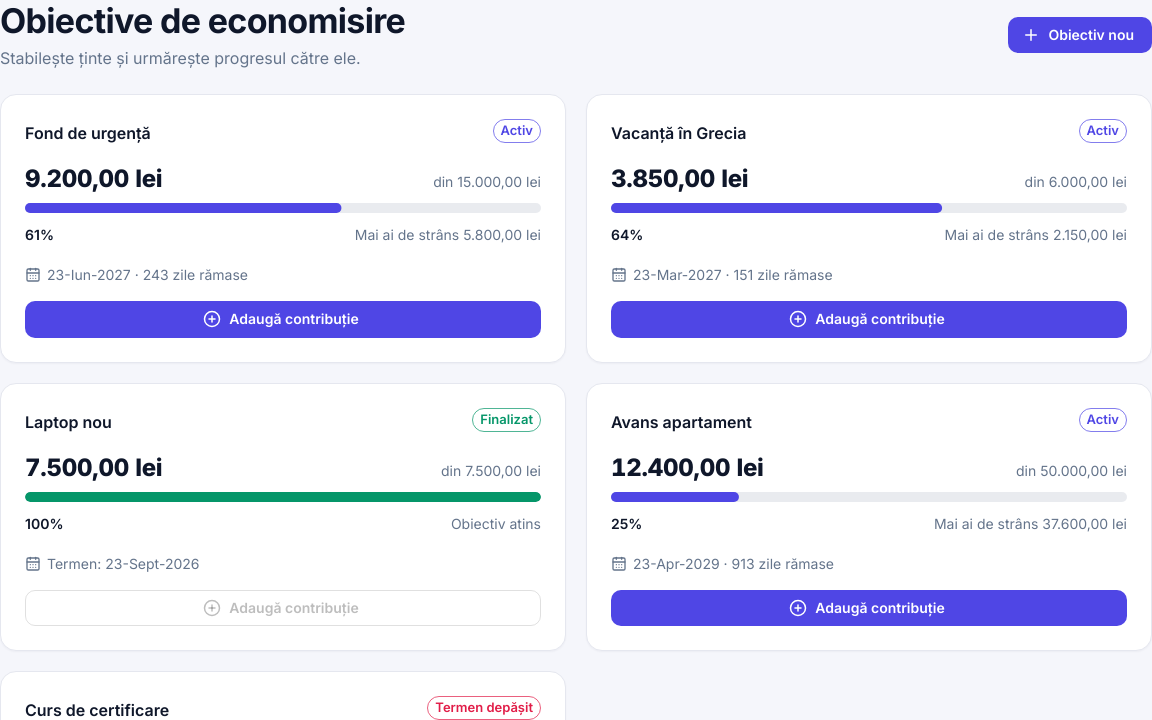
Scenario: GoalsPage › actualizează progresul după o contribuție
Check: the heading "9.200,00 lei" is shown, box [25,163,162,195]
Step 1. Click the button "Adaugă contribuție" below "23-Iun-2027 · 243 zile rămase" → (283, 319), box [25,301,541,338]
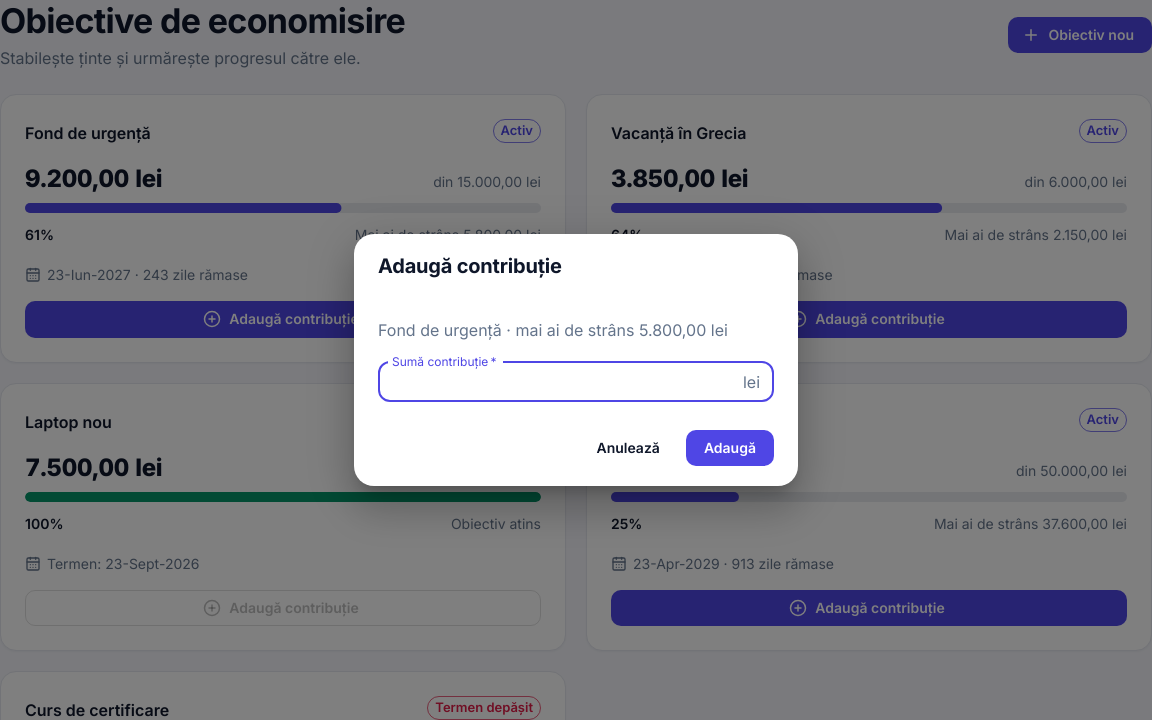
Step 2. Type "800" into the field labelled "Sumă contribuție *" → (556, 382), box [378,362,735,402]
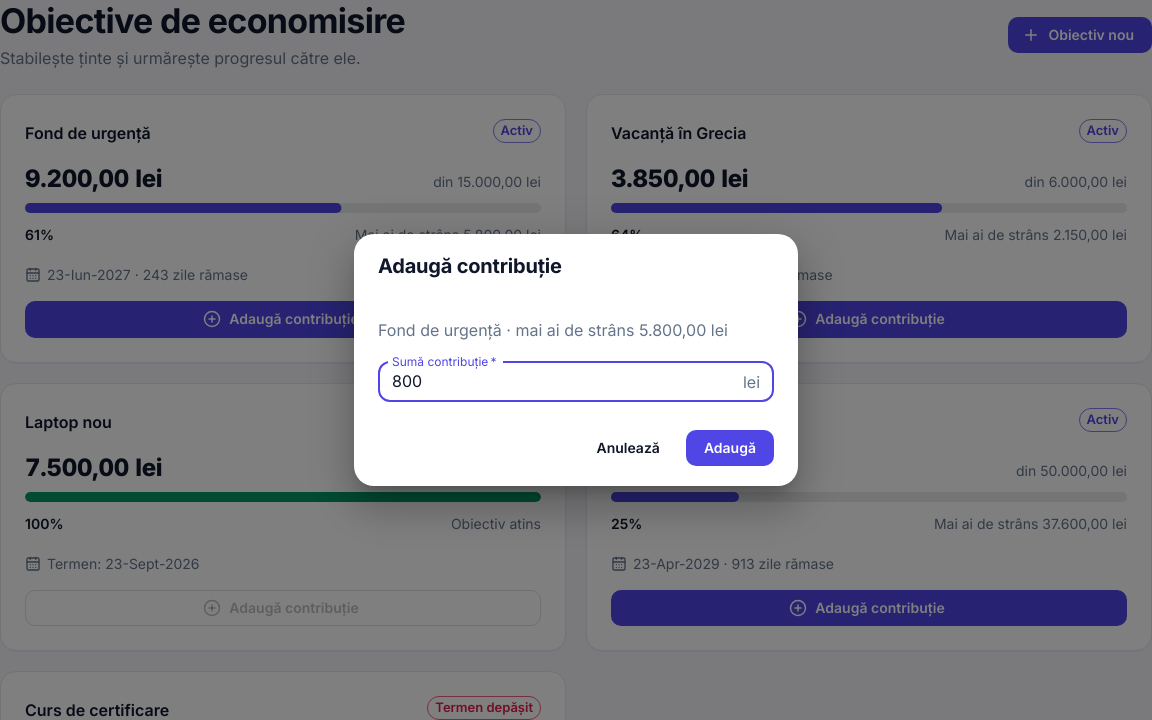
Step 3. Click the button "Adaugă" → (730, 448), box [686,430,774,466]
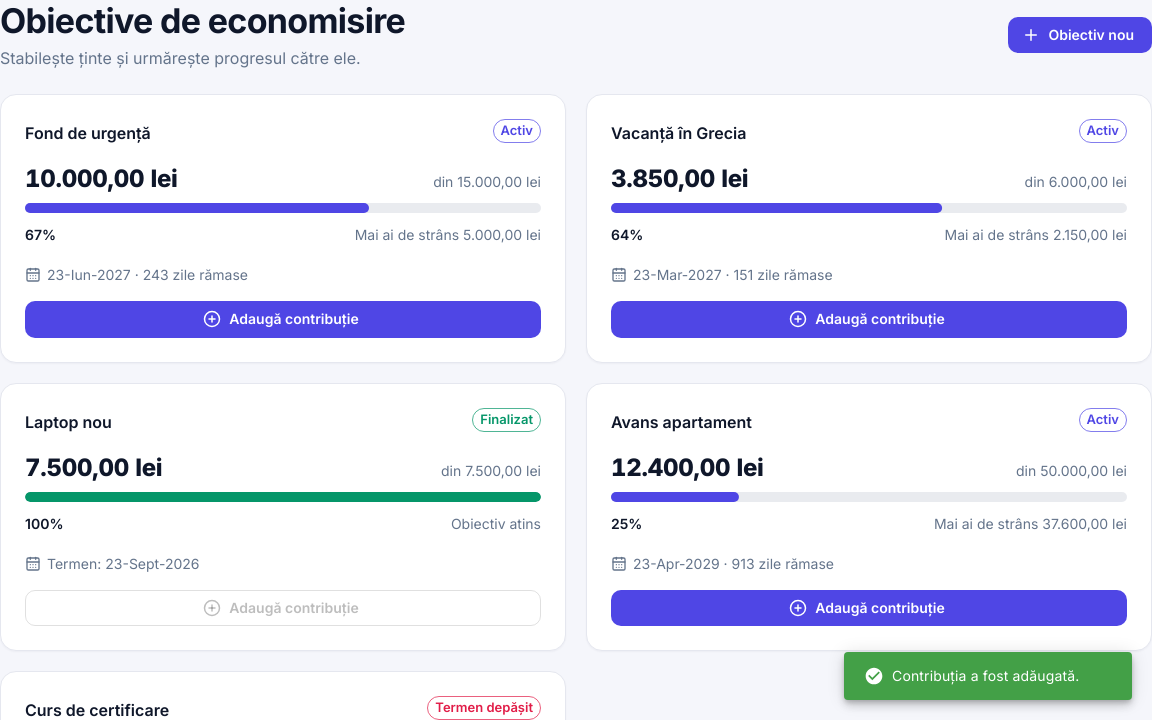
Check: the heading "10.000,00 lei" is shown, box [25,163,178,195]
